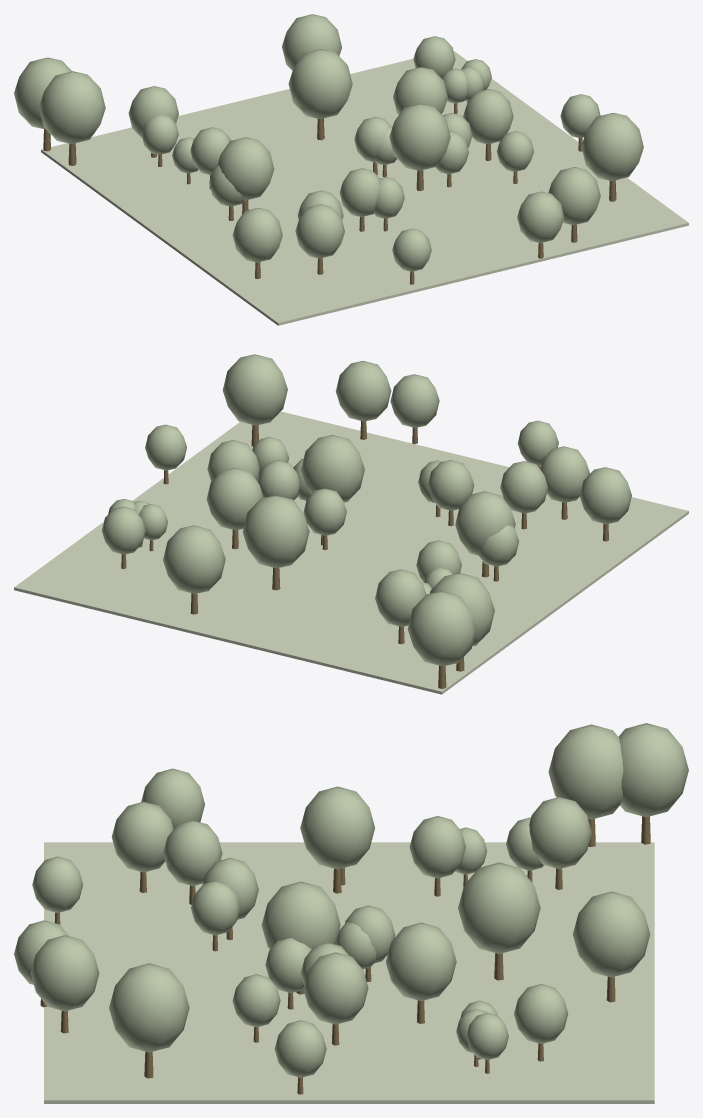
3 views of the same model, one above another, from view 1: azimuth 30°, elevation 25°; view 2: azimuth 150°, elevation 25°; view 3: azimuth 270°, elevation 25° (orthographic). The views are drawn at different scales.
Parts seen in each view (by area): view 1: terrain, lod-near-20, lod-near-21, lod-near-11, lod-near-24, lod-near-22, lod-near-15, lod-near-29, lod-near-18, lod-near-12, lod-near-6, lod-near-31 (+18 smaller); view 2: terrain, lod-near-31, lod-near-21, lod-near-11, lod-near-6, lod-near-24, lod-near-15, lod-near-27, lod-near-22, lod-near-29, lod-near-13, lod-near-12 (+14 smaller); view 3: terrain, lod-near-21, lod-near-11, lod-near-20, lod-near-31, lod-near-6, lod-near-22, lod-near-27, lod-near-24, lod-near-15, lod-near-18, lod-near-13 (+18 smaller).
Boxes of the visible parts, <box> form: terrain: <box>41,50,688,325</box>; lod-near-20: <box>39,71,105,143</box>; lod-near-21: <box>288,49,352,118</box>; lod-near-11: <box>581,113,643,180</box>; lod-near-24: <box>389,103,450,170</box>; lod-near-22: <box>217,137,274,200</box>; lod-near-15: <box>548,167,600,225</box>; lod-near-29: <box>232,207,282,262</box>; lod-near-18: <box>463,89,513,144</box>; lod-near-12: <box>295,204,344,258</box>; lod-near-6: <box>282,14,341,70</box>; lod-near-31: <box>14,57,71,129</box>; terrain: <box>14,411,688,694</box>; lod-near-31: <box>407,591,476,666</box>; lod-near-21: <box>242,495,309,568</box>; lod-near-11: <box>222,354,287,425</box>; lod-near-6: <box>163,525,225,593</box>; lod-near-24: <box>301,435,364,502</box>; lod-near-15: <box>335,361,391,421</box>; lod-near-27: <box>206,467,263,530</box>; lod-near-22: <box>455,491,515,555</box>; lod-near-29: <box>580,467,631,524</box>; lod-near-13: <box>375,569,426,626</box>; lod-near-12: <box>540,446,589,502</box>; terrain: <box>44,842,654,1103</box>; lod-near-21: <box>458,862,540,953</box>; lod-near-11: <box>109,963,189,1052</box>; lod-near-20: <box>548,724,623,819</box>; lod-near-31: <box>618,723,688,817</box>; lod-near-6: <box>573,891,650,977</box>; lod-near-22: <box>300,786,374,869</box>; lod-near-27: <box>386,922,456,1001</box>; lod-near-24: <box>261,881,340,949</box>; lod-near-15: <box>30,935,99,1011</box>; lod-near-18: <box>303,952,368,1024</box>; lod-near-13: <box>529,797,591,868</box>.
Size of the model in its own units: 34.7 by 7.11 by 35.38.
